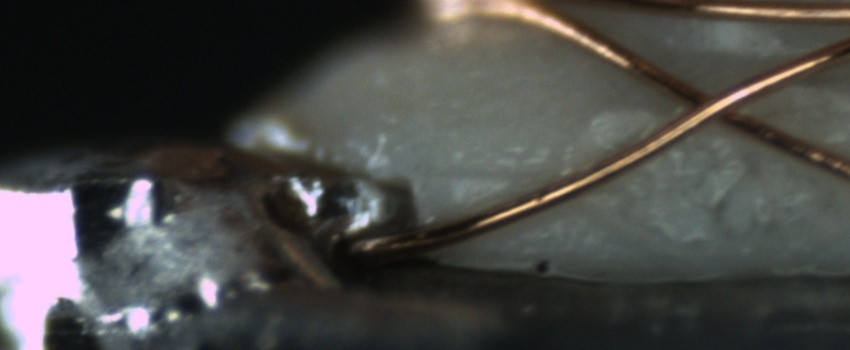CL: (664, 69, 764, 137)
DL: (432, 142, 571, 206)
